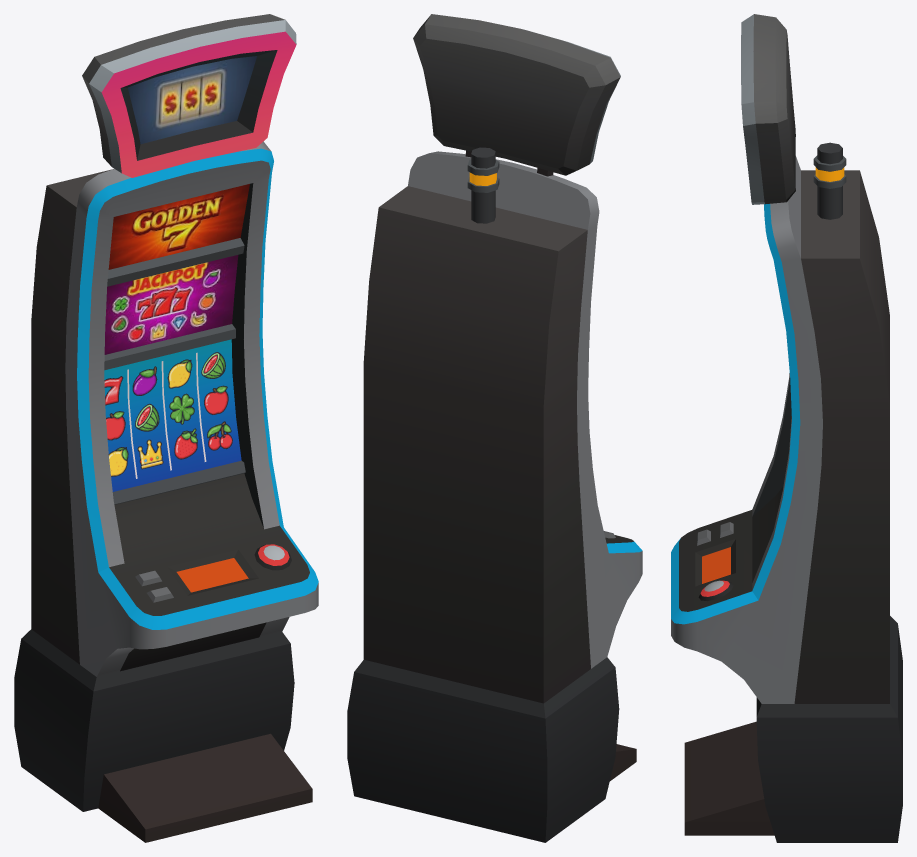
Rendered from Slot_Machine_02.glb.
3 views of the same model, side by side, from view 1: azimuth 30°, elevation 25°; view 2: azimuth 150°, elevation 25°; view 3: azimuth 270°, elevation 25° (orthographic). The views are drawn at different scales.
Visible parts, largest first — view 1: Slot_Machine_02, Slot_07, Slot_08, Slot_06, Slot_05; view 2: Slot_Machine_02; view 3: Slot_Machine_02.
Boxes of the visible parts, box(x1,y1,x2,y2) form: Slot_Machine_02: box(14, 14, 318, 842); Slot_07: box(167, 359, 197, 459); Slot_08: box(201, 352, 232, 450); Slot_06: box(132, 366, 163, 469); Slot_05: box(104, 376, 128, 476); Slot_Machine_02: box(347, 14, 642, 842); Slot_Machine_02: box(671, 14, 902, 842).
Size of the model in its own units: 0.8656 by 3.04 by 0.8581.
Materials: 4 (4 with a texture image).
